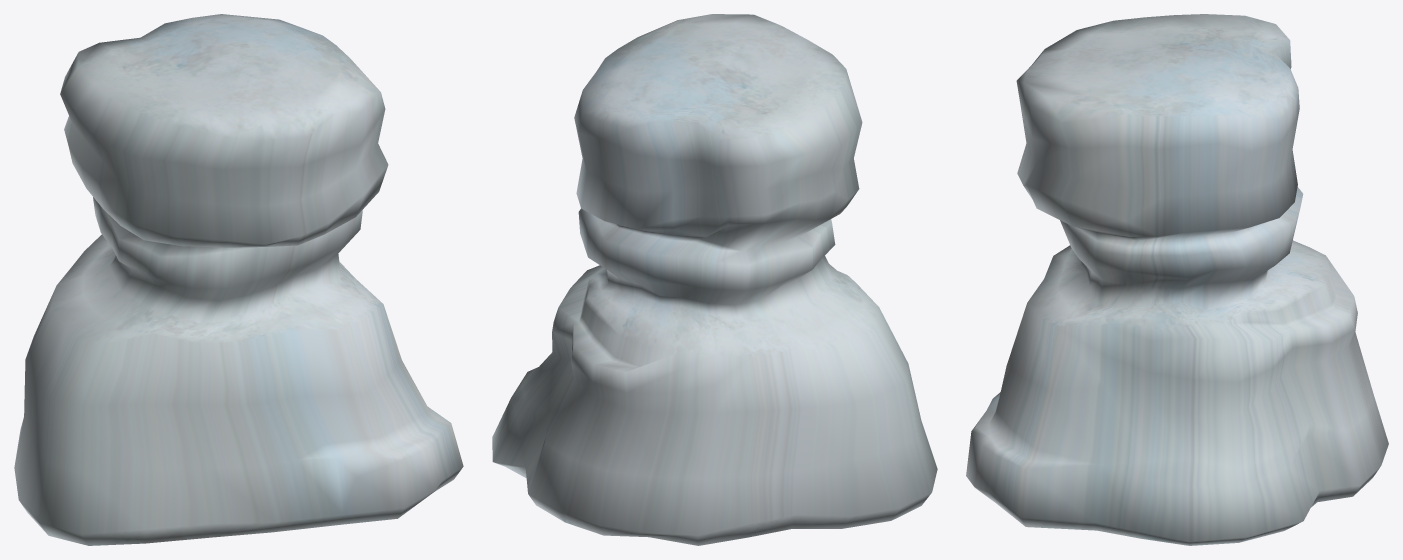
File: P_RockDesert_Platform02.obj
The picture shows the model from 3 angles, left to right: view 1: azimuth 30°, elevation 25°; view 2: azimuth 150°, elevation 25°; view 3: azimuth 270°, elevation 25°; orthographic projection. The views are drawn at different scales.
Bounding box in the file's own units: 18.6 × 18.73 × 17.21.
